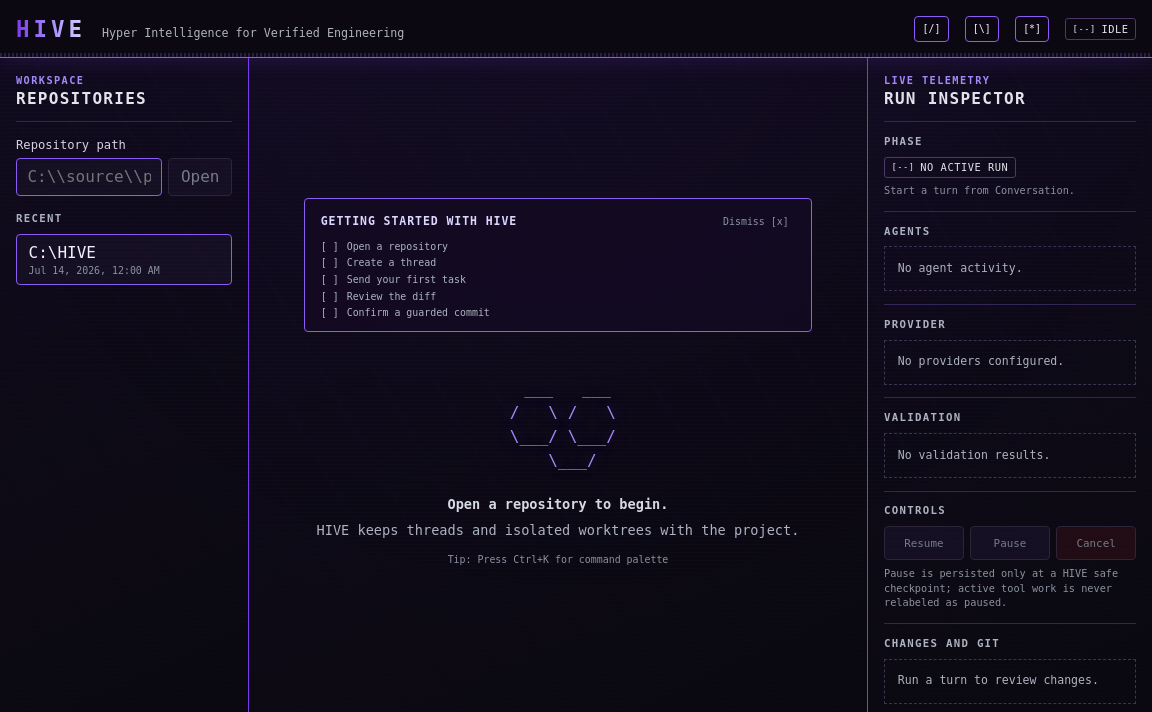
Test: HIVE desktop cockpit › retains the draft when append fails
Click the button "C:\\HIVE Jul 14, 2026, 12:00 AM".
click(124, 259)  # box [16,234,232,284]
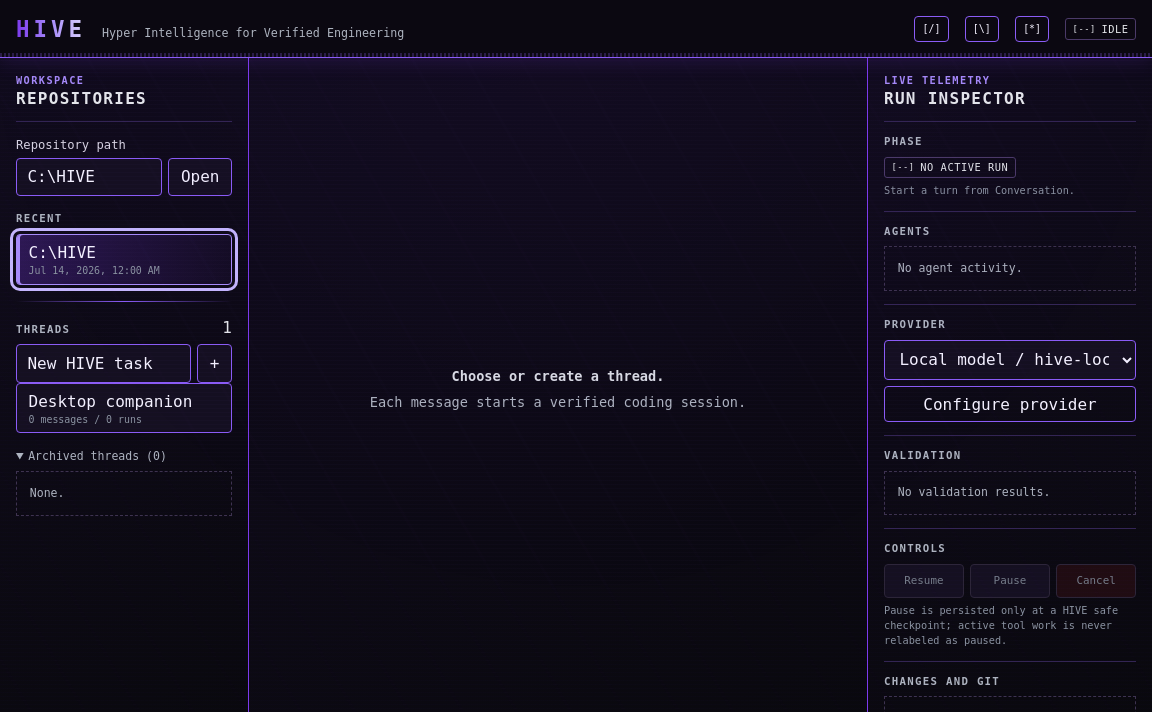
Expected: the button "Desktop companion 0 messages / 0 runs" is shown
Click the button "Desktop companion 0 messages / 0 runs".
click(124, 408)  # box [16,383,232,433]
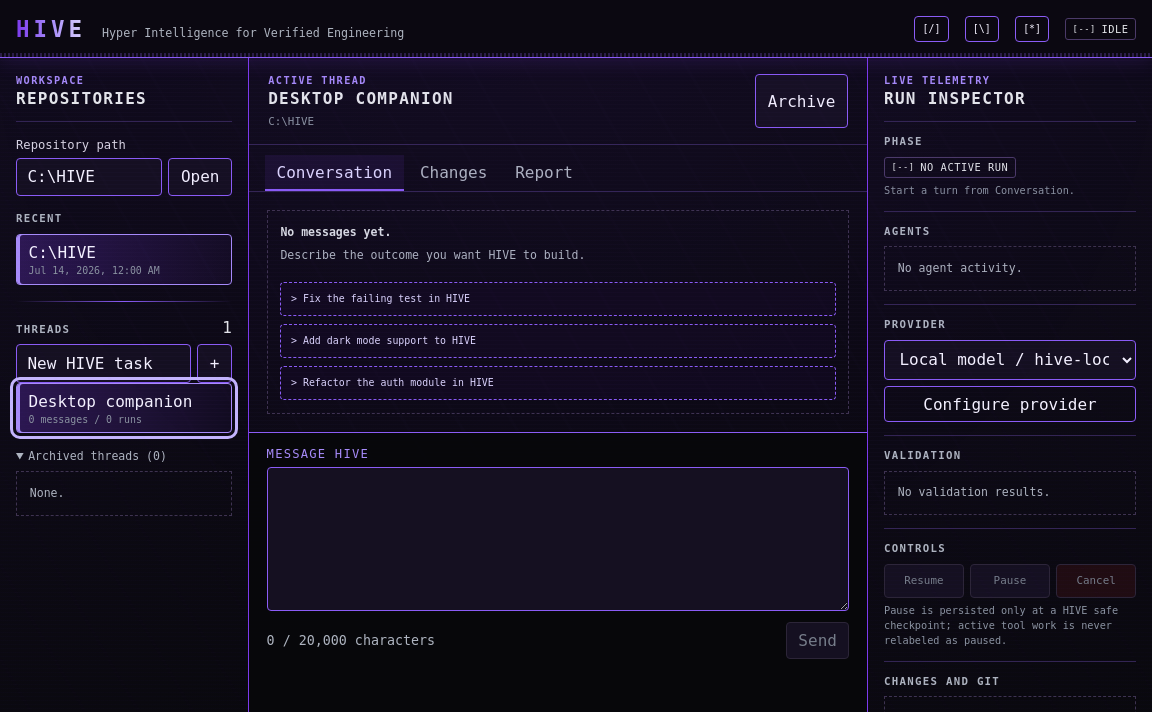
Type "Keep this draft" into the text box labelled "Message HIVE".
click(558, 539); type("Keep this draft")  # box [267,467,849,611]
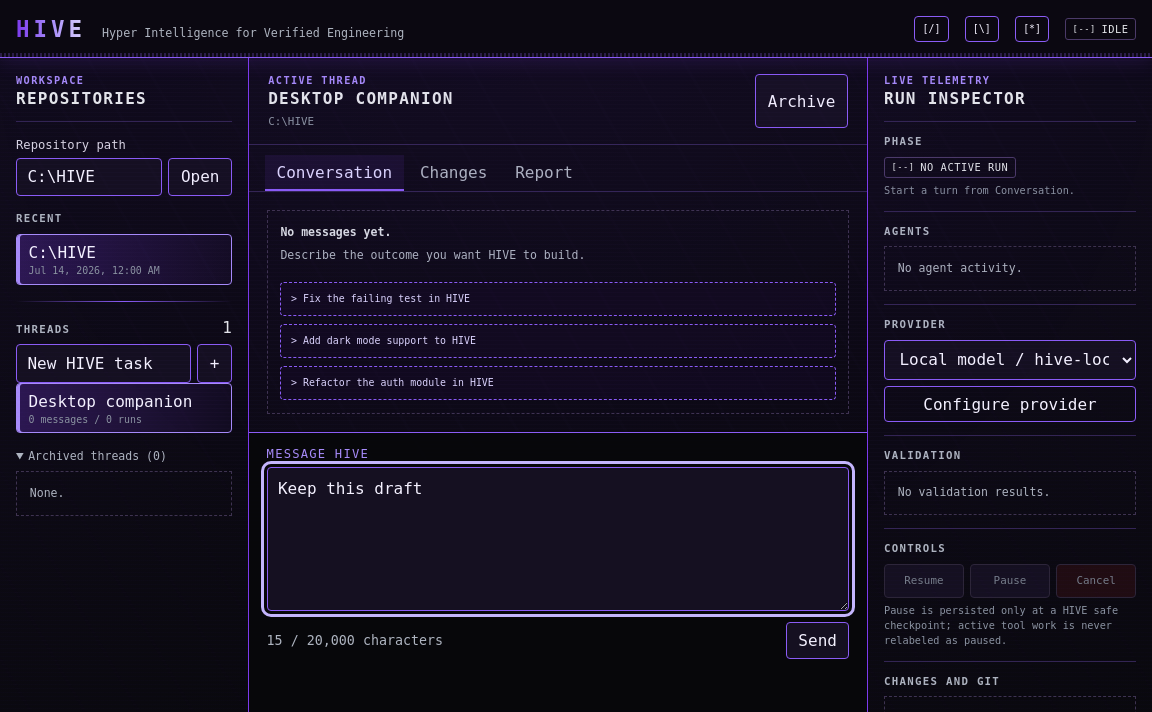
Click the button "Send".
click(818, 640)  # box [786,622,849,658]
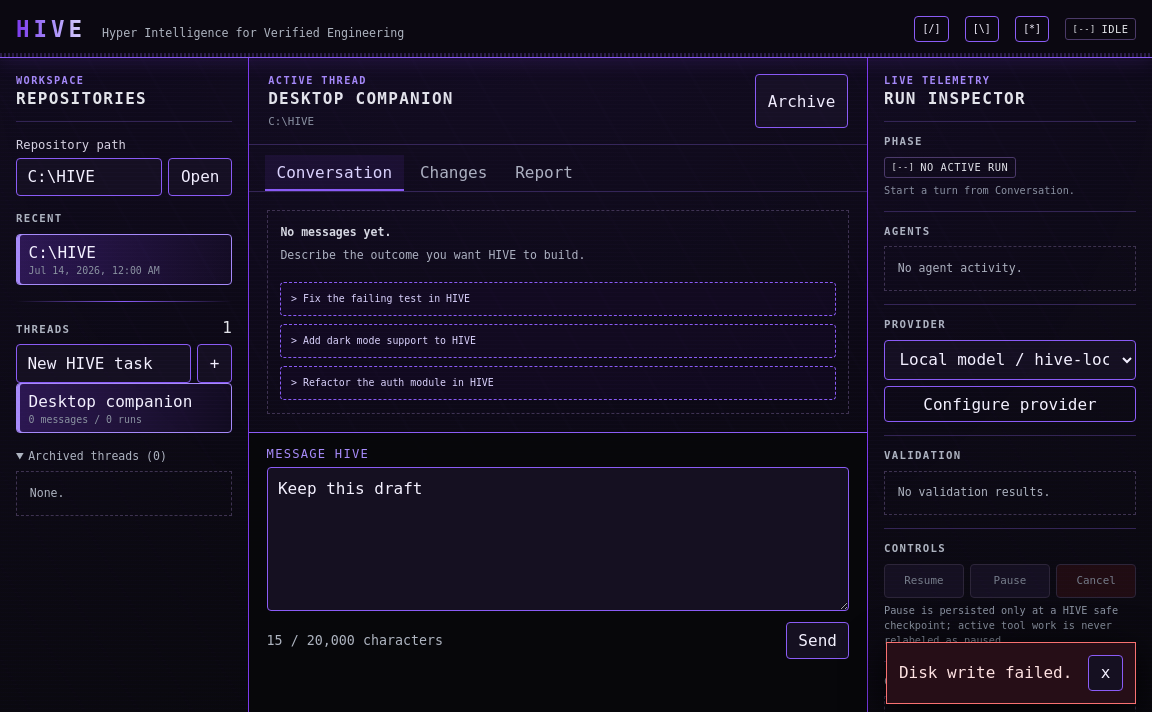
Expected: the message shows "Disk write failed", [899,663,1072,682]
